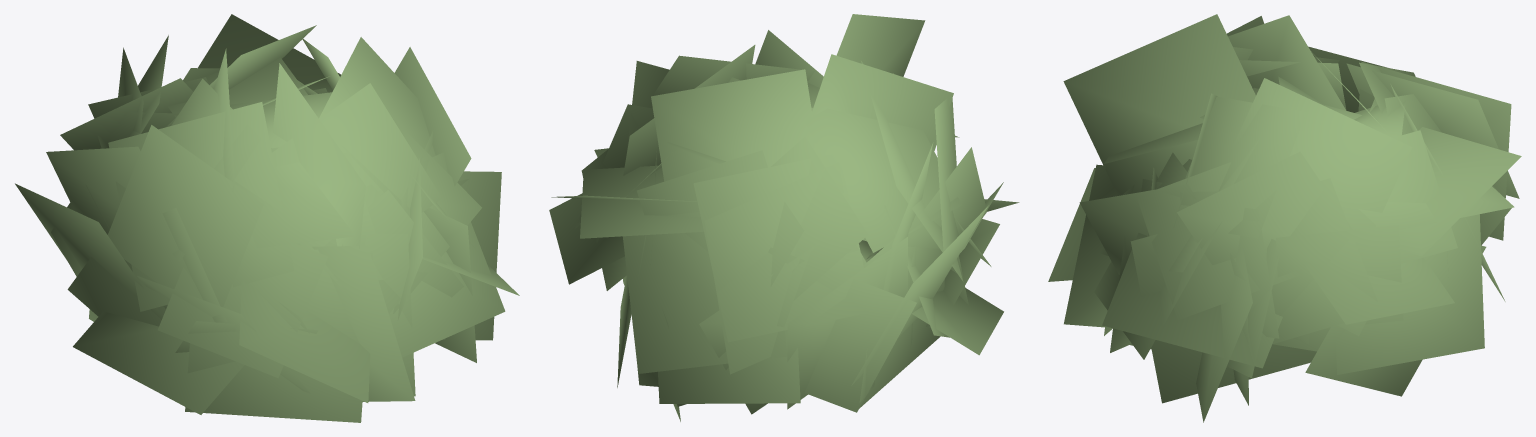
File: boxwood.glb
3 views of the same model, side by side, from view 1: azimuth 30°, elevation 25°; view 2: azimuth 150°, elevation 25°; view 3: azimuth 270°, elevation 25° (orthographic). The views are drawn at different scales.
Visible parts, largest first — view 1: Boxwood_LOD0; view 2: Boxwood_LOD0; view 3: Boxwood_LOD0.
Boxes of the visible parts, bbox=[...] form: Boxwood_LOD0: bbox=[15, 14, 519, 422]; Boxwood_LOD0: bbox=[549, 14, 1019, 421]; Boxwood_LOD0: bbox=[1048, 14, 1521, 422].
Size of what is drawn, in the model's own units: 1.93 by 1.62 by 2.01.
